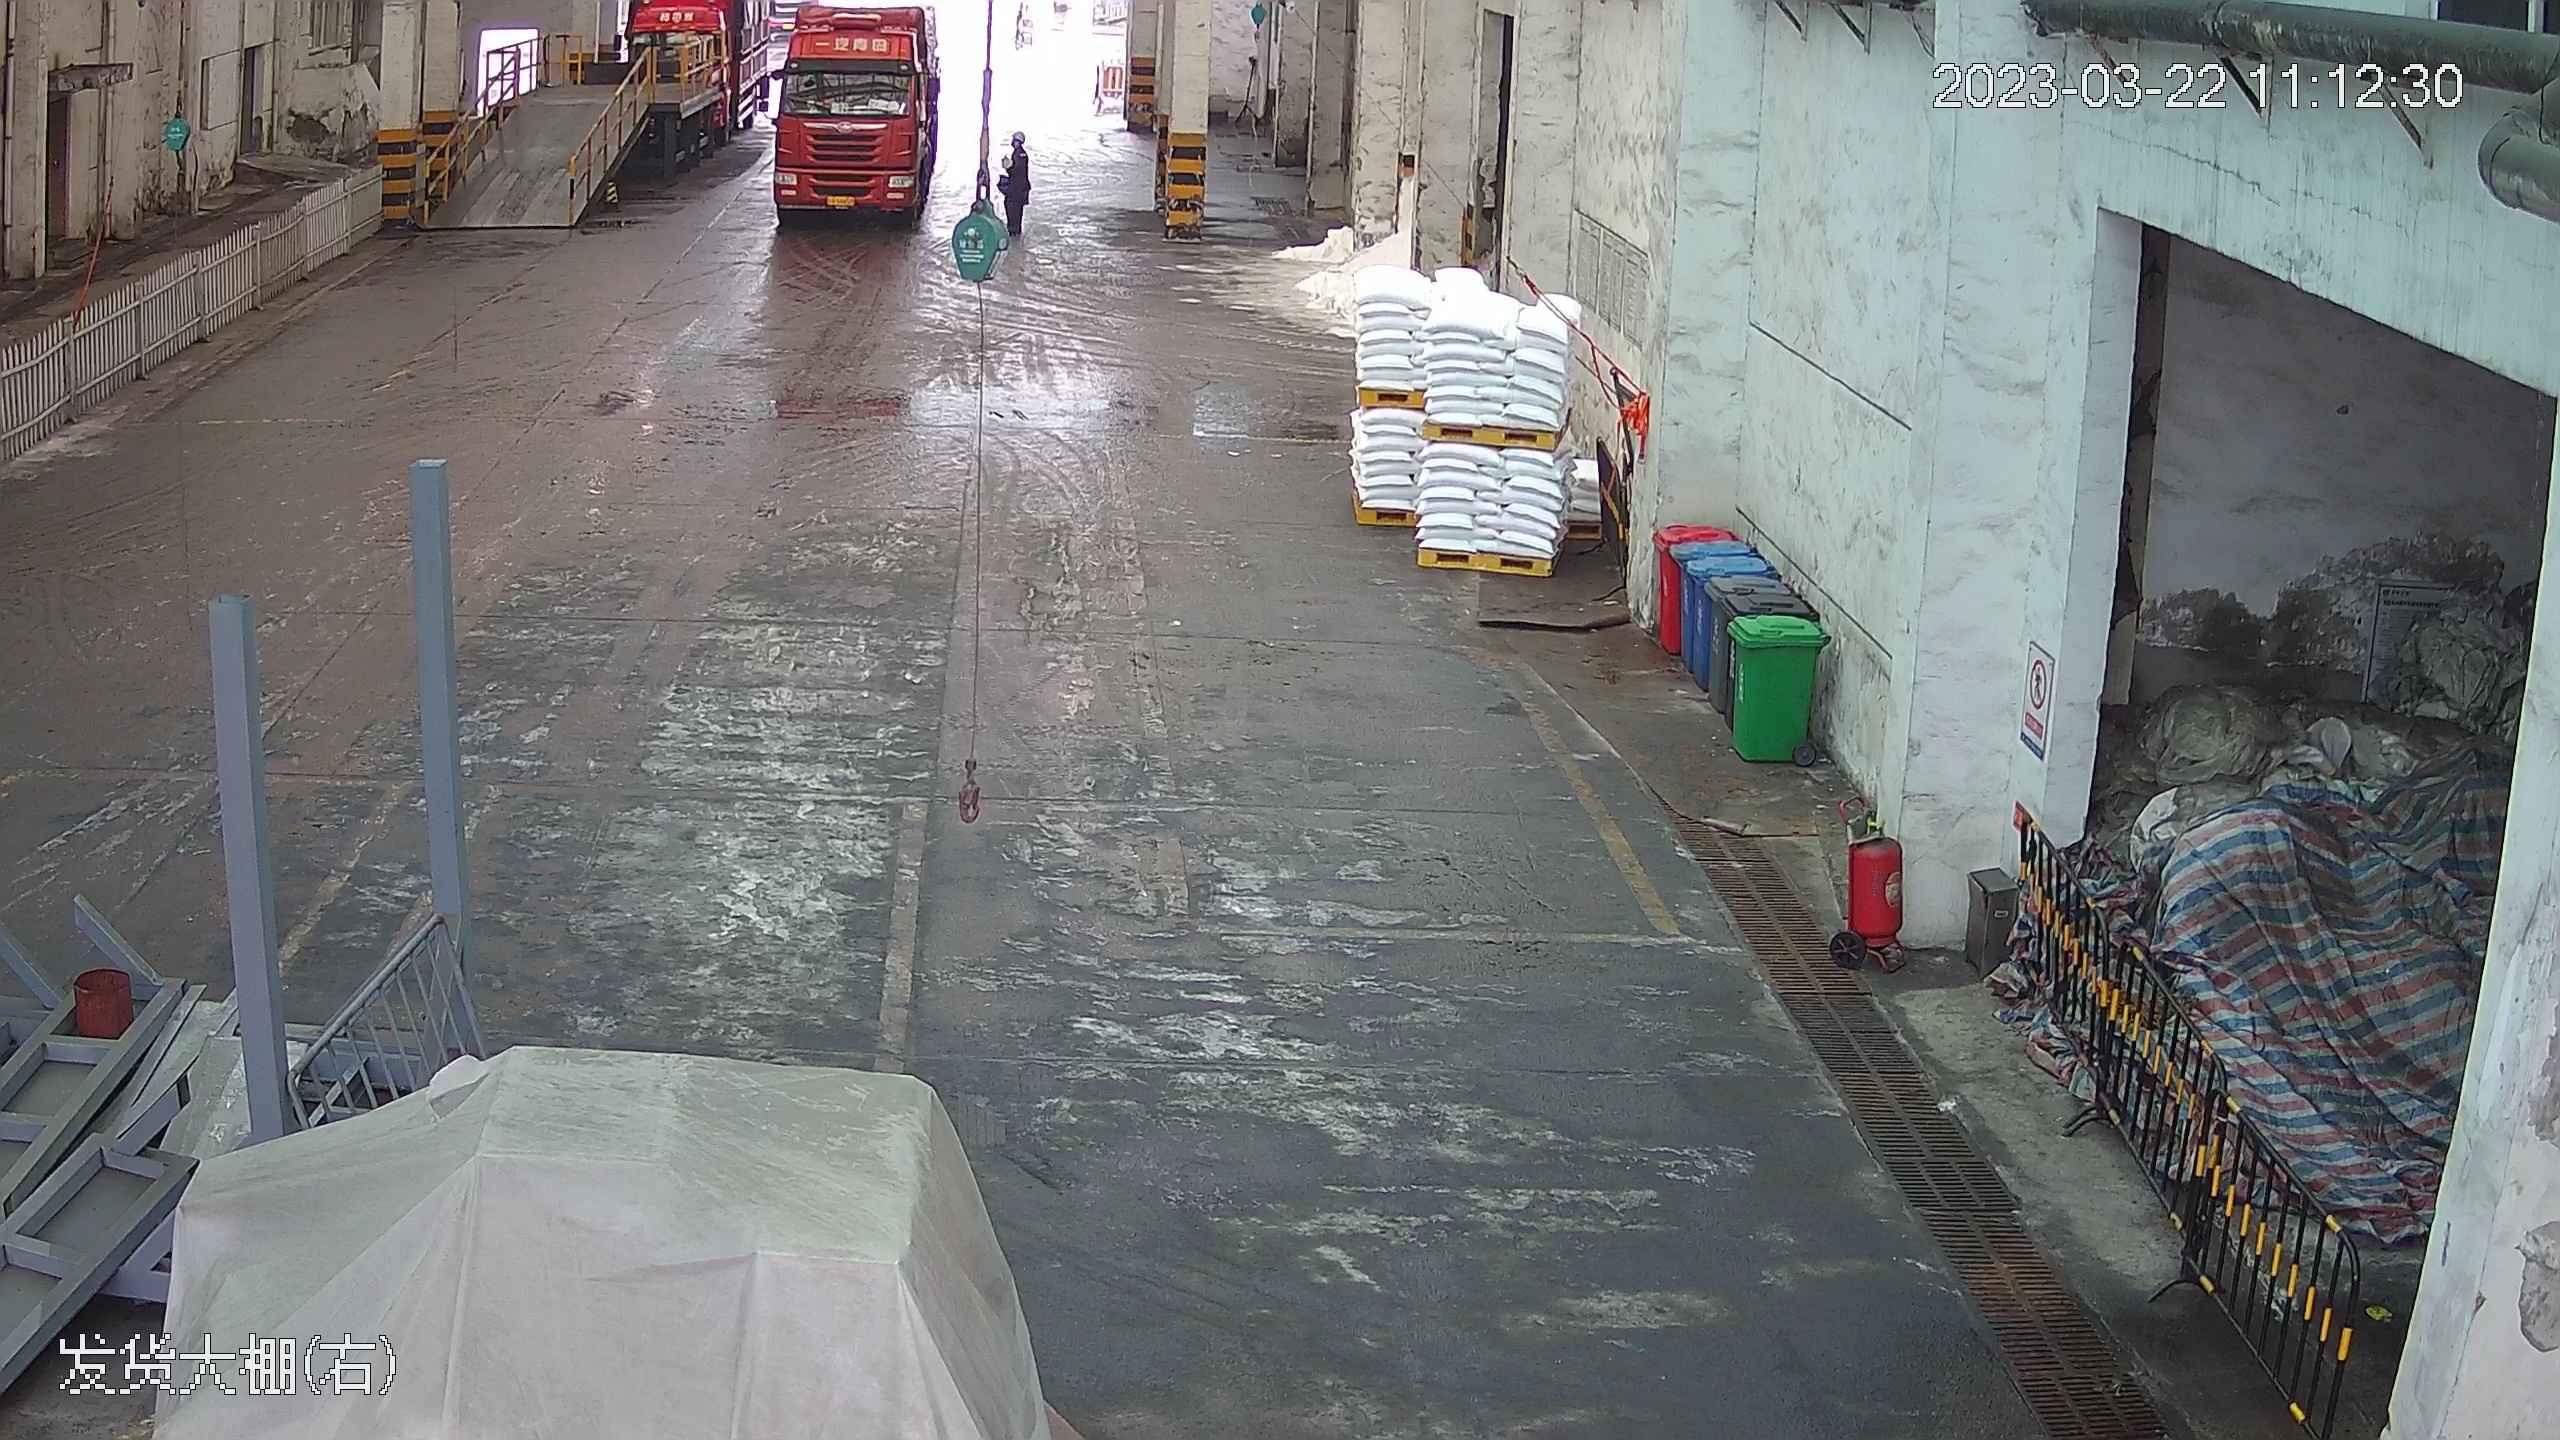head: (1001, 123, 1034, 165)
helmet: (1012, 129, 1025, 142)
people: (994, 122, 1035, 238)
truck: (758, 3, 945, 220)
